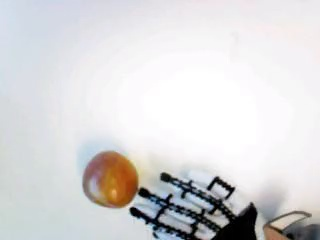apple: (79, 150, 138, 208)
hand: (132, 170, 266, 238)
